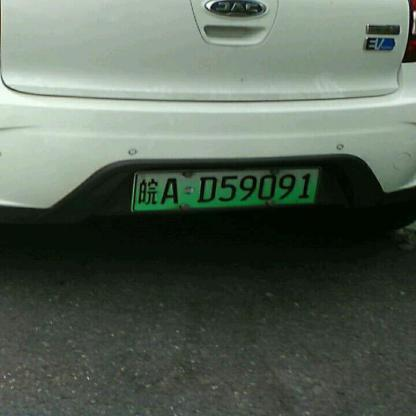lp: (131, 168, 319, 211)
